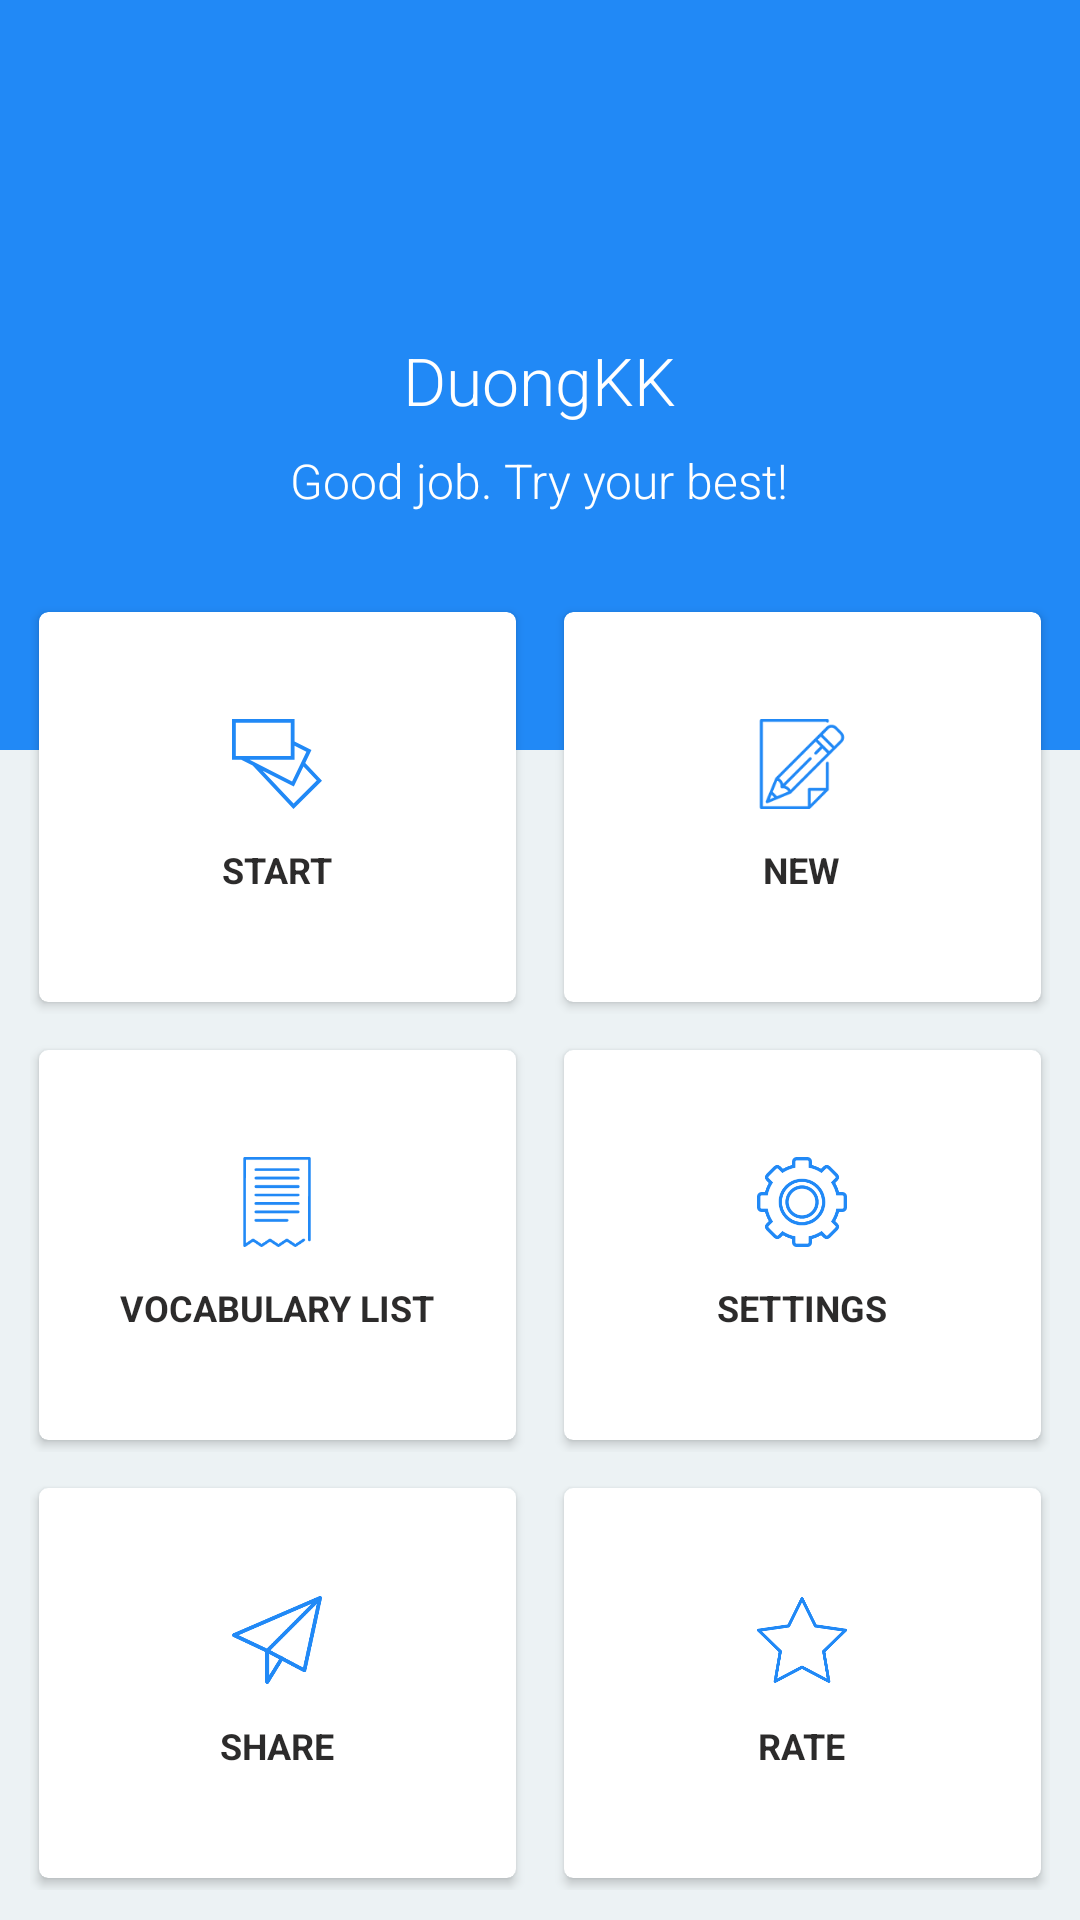

Point at icon controls on the screen. Image size 1080×1920, points as [x,y].
send: [277,1640]
star noti: [802,1640]
